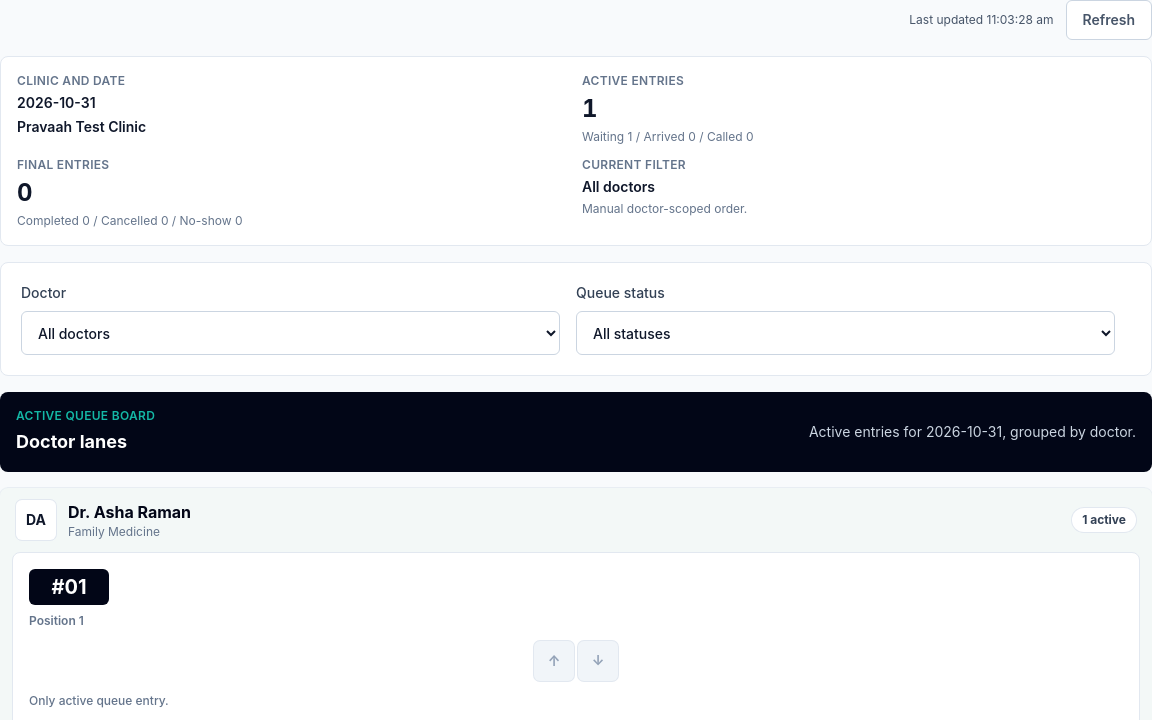
Test: QueuePage manual reorder controls › only offers Mark arrived while the appointment can transition to arrived
Expected: the button "mark arrived" is not shown
Expected: the option "mark arrived" is not shown
What coordinates should you click on to do the following:
click the button "Refresh"
I would click on:
 (1109, 20)
Its box is [1066, 0, 1151, 40].
(page scrolled)
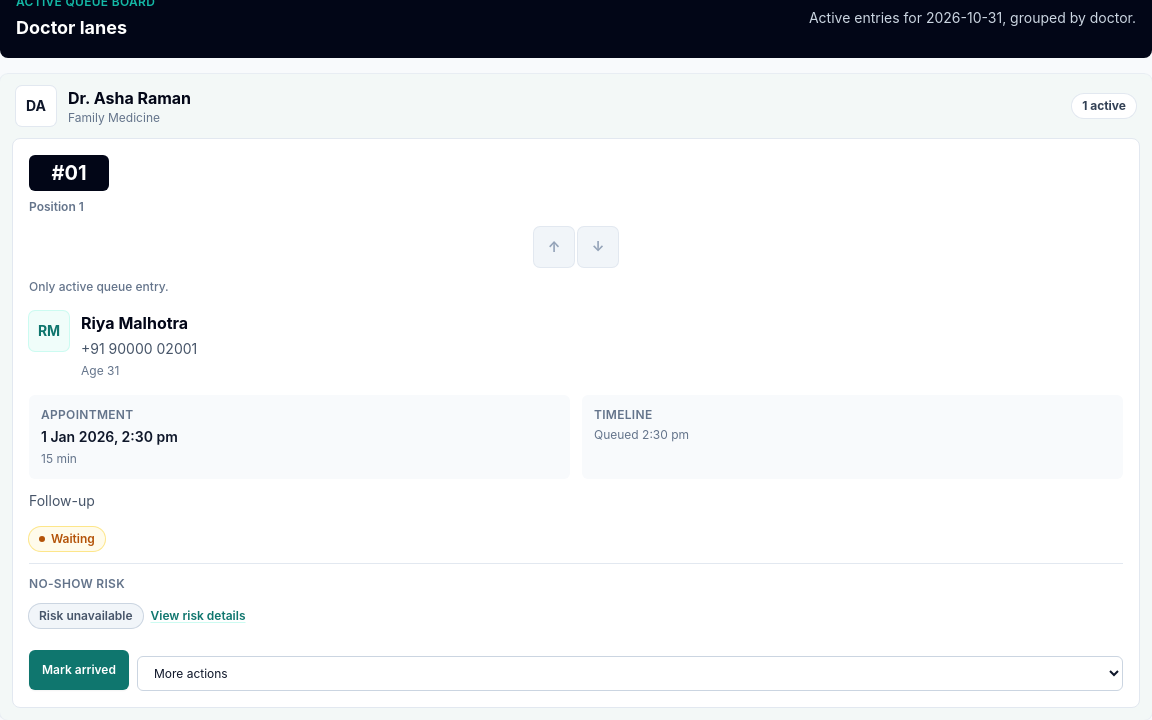
Expected: the button "Mark arrived" is shown, [29, 650, 129, 690]
